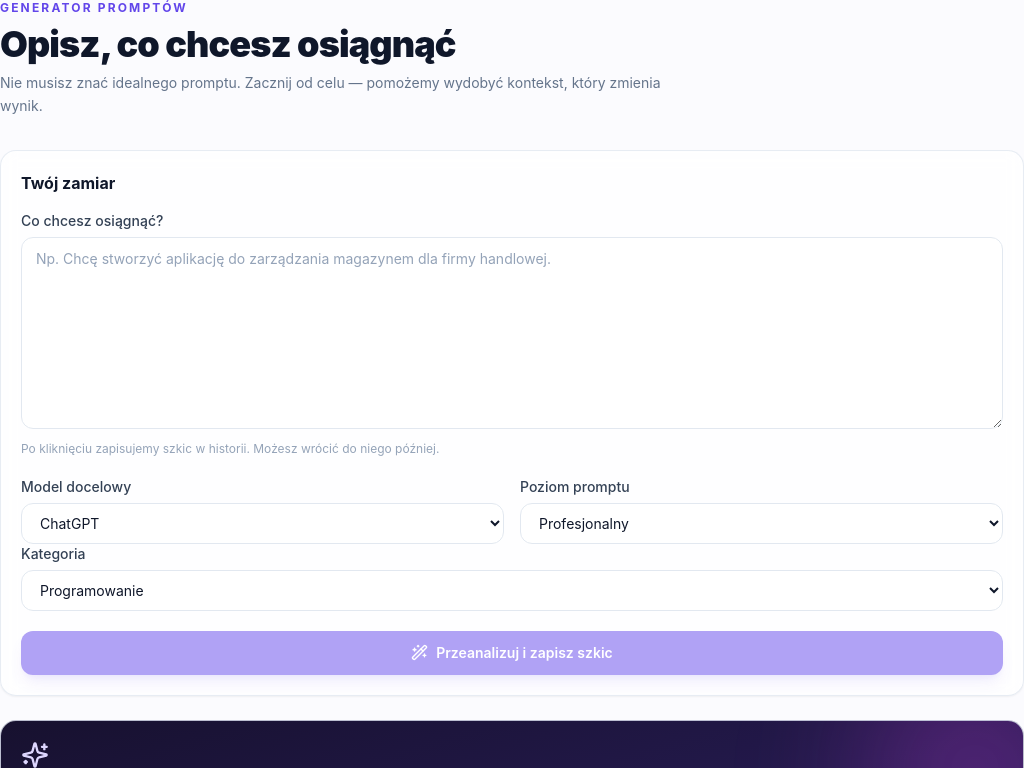
workflow promptów › nie pokazuje pytań poprzedniego szkicu po zmianie opisu
Replace the text in the text box labelled "Co chcesz osiągnąć?" with "Przygotuj plan wdrożenia dla zespołu operacyjnego." at (512, 332), box [21, 236, 1003, 428]
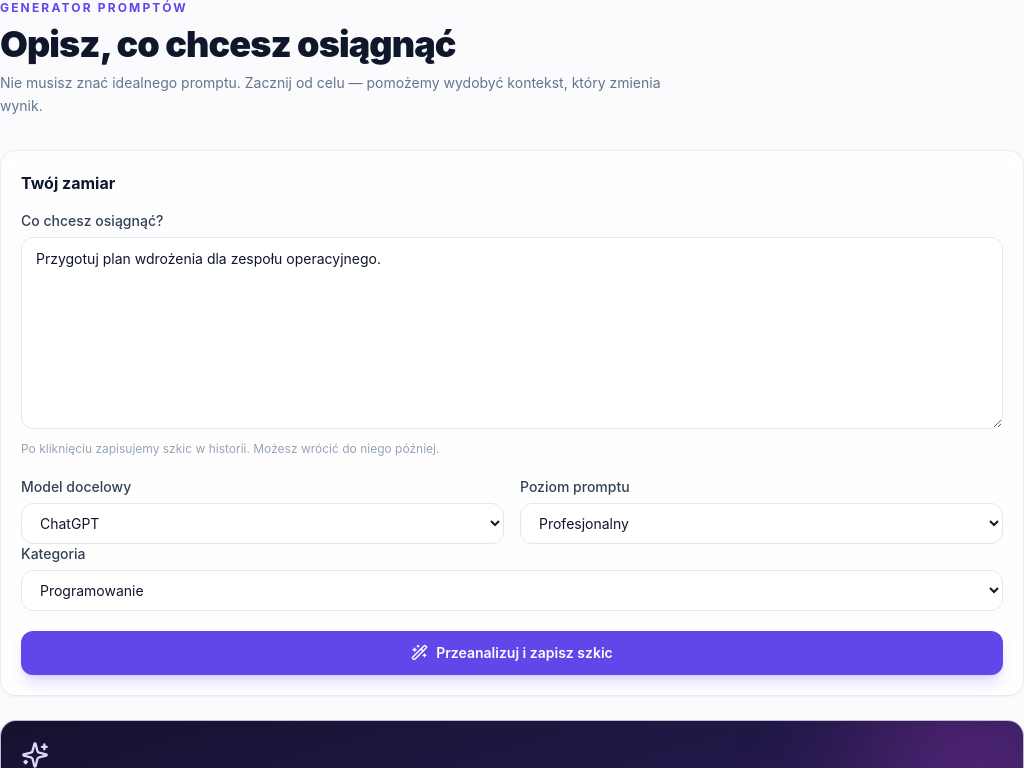
expect the button "Przeanalizuj i zapisz szkic" is enabled: met
Click the button "Przeanalizuj i zapisz szkic" at (512, 652), box [21, 630, 1003, 674]
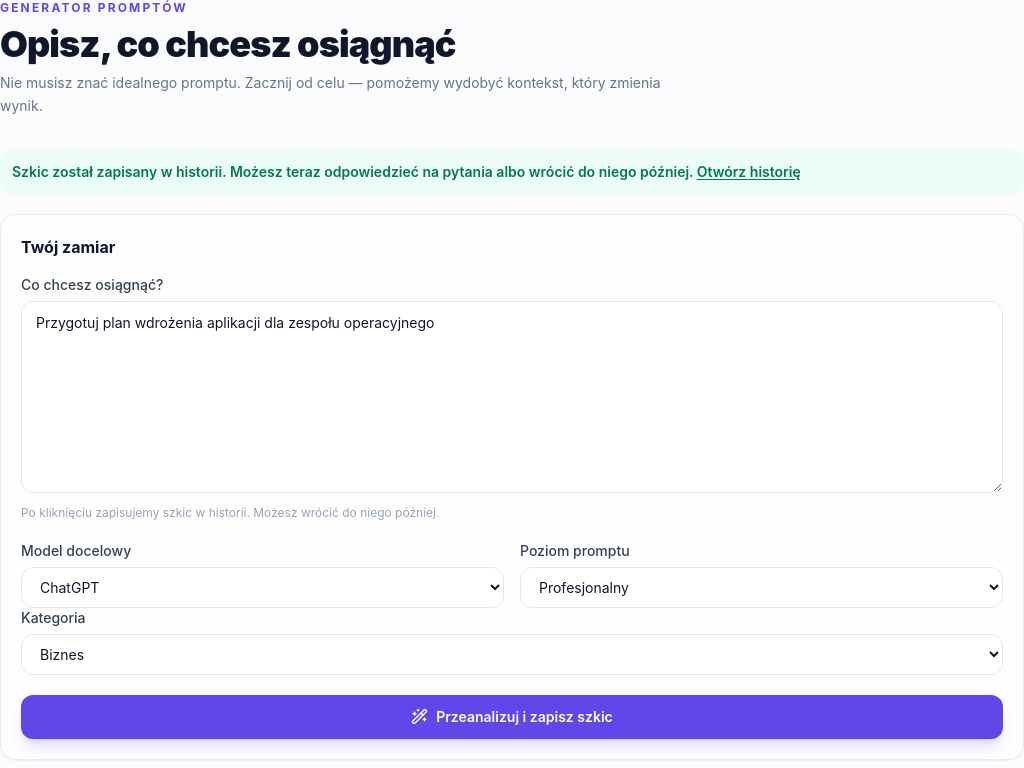
Replace the text in the text box labelled "Co chcesz osiągnąć?" with "Przetłumacz regulamin sklepu internetowego na angielski." at (512, 396), box [21, 300, 1003, 492]
(page scrolled)
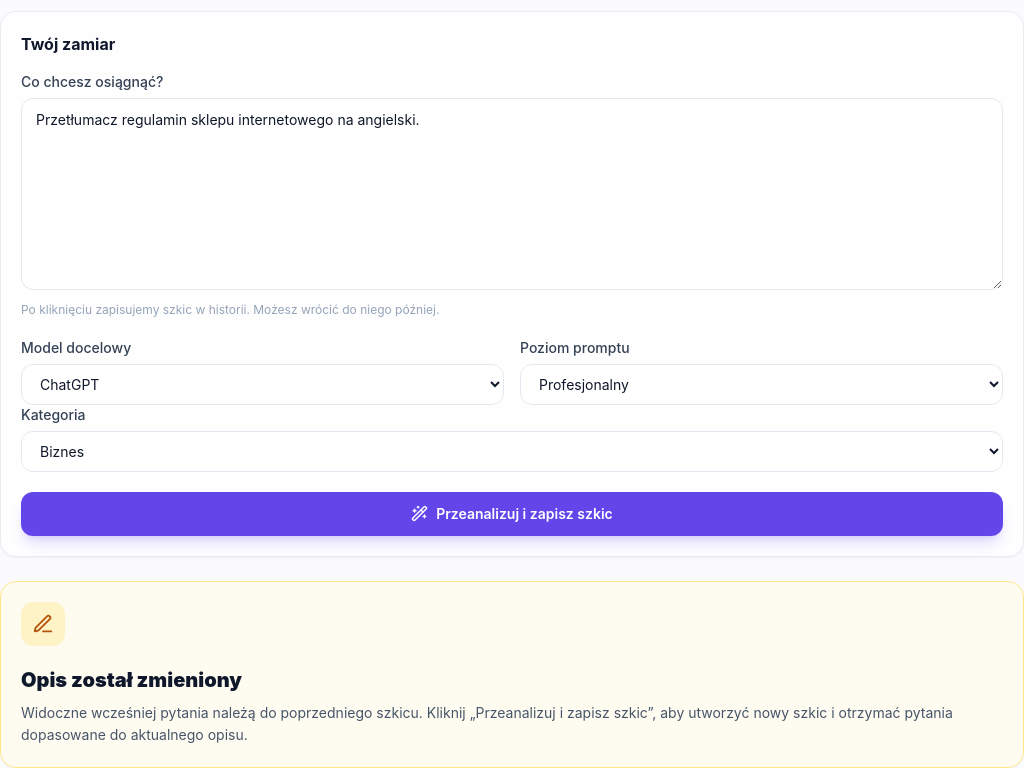
expect the heading "Opis został zmieniony" is shown: met, box [21, 668, 242, 692]
